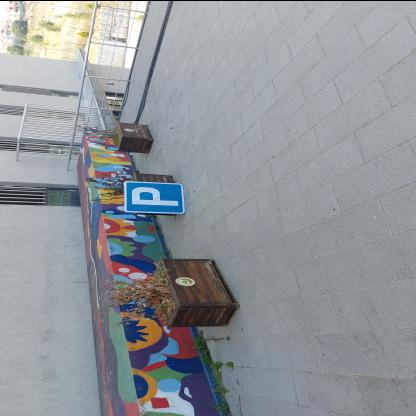Parking-Sign: (127, 182, 184, 213)
